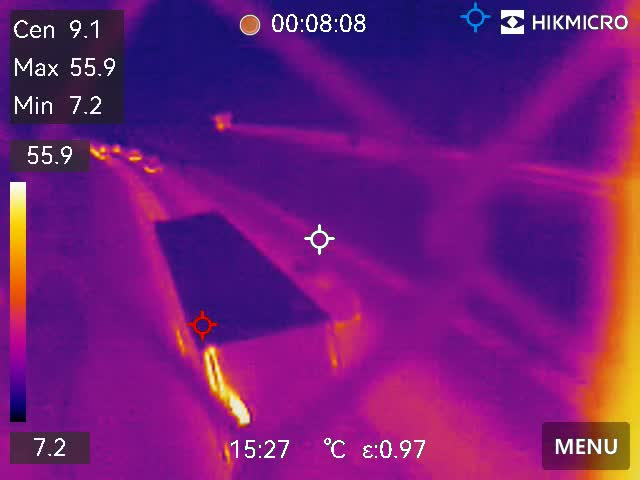heavyTruck: (145, 205, 375, 480)
vehicle: (139, 156, 161, 174), (126, 147, 144, 166)
